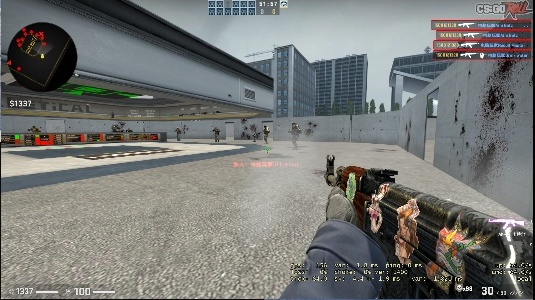body: (289, 122, 301, 149), (212, 126, 221, 142), (263, 125, 270, 145), (28, 124, 42, 132), (175, 127, 181, 141), (126, 127, 133, 132)
head: (291, 122, 298, 128), (32, 125, 37, 129), (264, 125, 268, 129), (127, 127, 131, 130), (215, 126, 218, 129), (177, 126, 179, 130)
